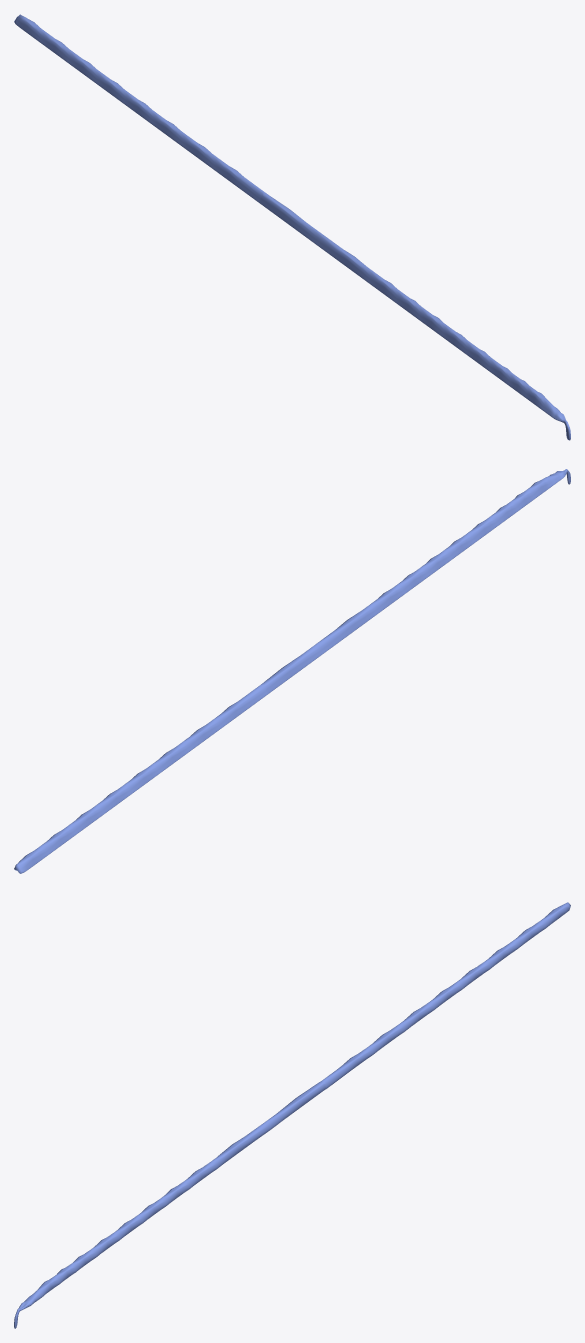
Rendered from rio_v8.fbx.
The picture shows the model from 3 angles, top to bottom: view 1: azimuth 30°, elevation 25°; view 2: azimuth 150°, elevation 25°; view 3: azimuth 330°, elevation 25°; orthographic projection.
Parts seen in each view (by area): view 1: Cylinder.001; view 2: Cylinder.001; view 3: Cylinder.001.
Boxes of the visible parts, left/top/right/bottom form: Cylinder.001: left=14, top=14, right=570, bottom=440; Cylinder.001: left=14, top=469, right=570, bottom=873; Cylinder.001: left=14, top=902, right=570, bottom=1328.
Size of the model in its own units: 1133 by 2946 by 120021.
